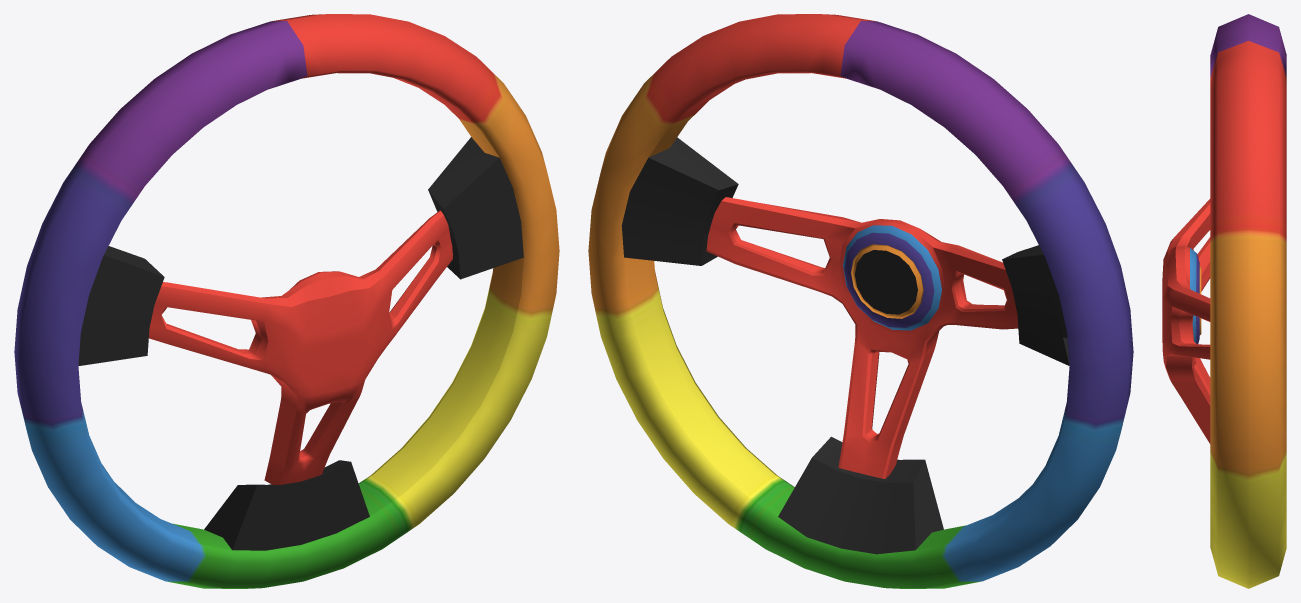
Rendered from Rainbow Steering.fbx.
3 renders of one model, left to right at view 1: azimuth 30°, elevation 25°; view 2: azimuth 150°, elevation 25°; view 3: azimuth 270°, elevation 25°, orthographic. The views are drawn at different scales.
Parts seen in each view (by area): view 1: Rainbow_Steering; view 2: Rainbow_Steering; view 3: Rainbow_Steering.
Boxes of the visible parts, bbox=[...] form: Rainbow_Steering: bbox=[14, 14, 559, 588]; Rainbow_Steering: bbox=[588, 14, 1133, 588]; Rainbow_Steering: bbox=[1162, 14, 1286, 588].
Size of the model in its own units: 109 by 109 by 23.49.
